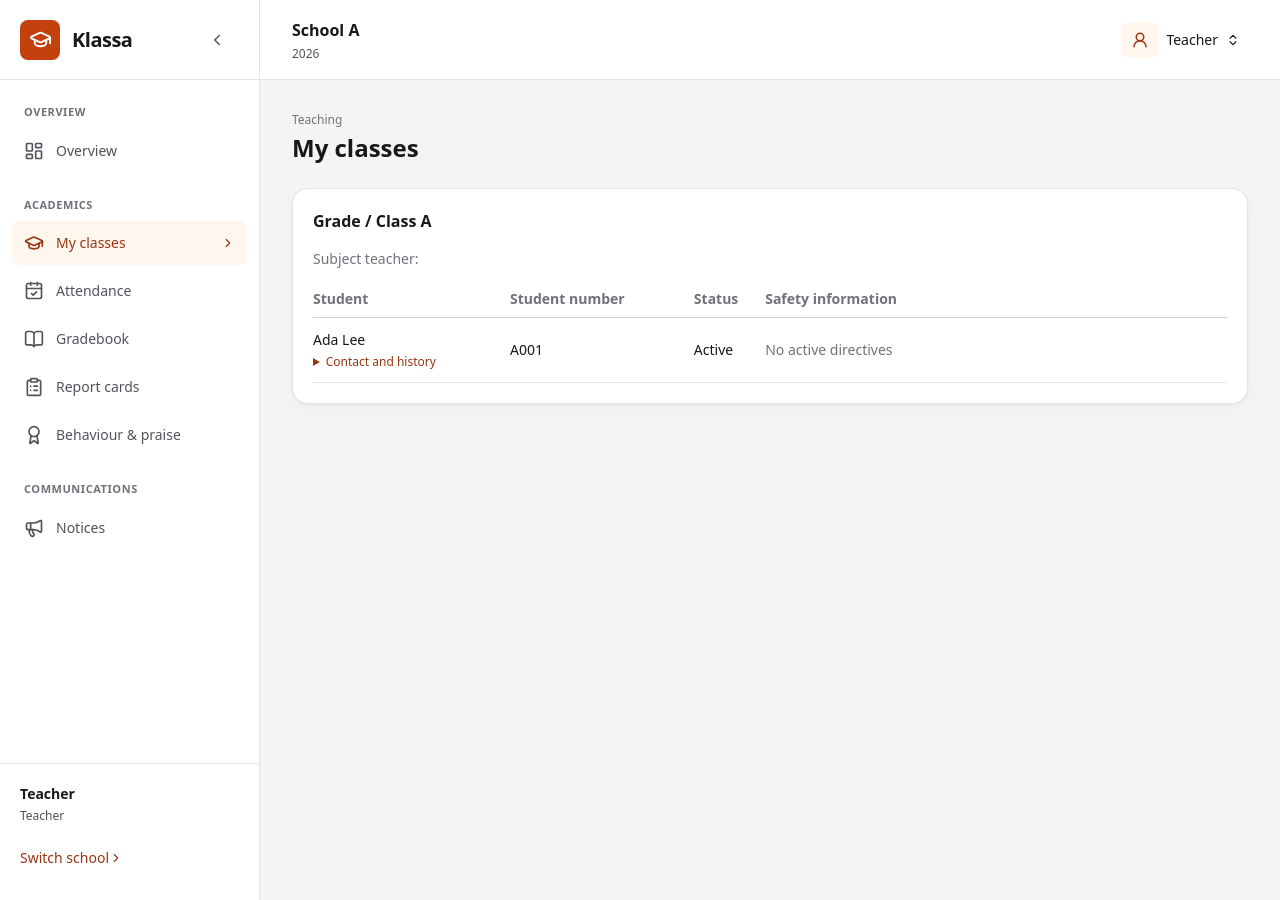
Test: teacher class information › shows linked contact and published attendance history on a roster
The image size is (1280, 900).
Click the heading "Contact and history" at (381, 362), box x1=326 y1=353 x2=436 y2=370
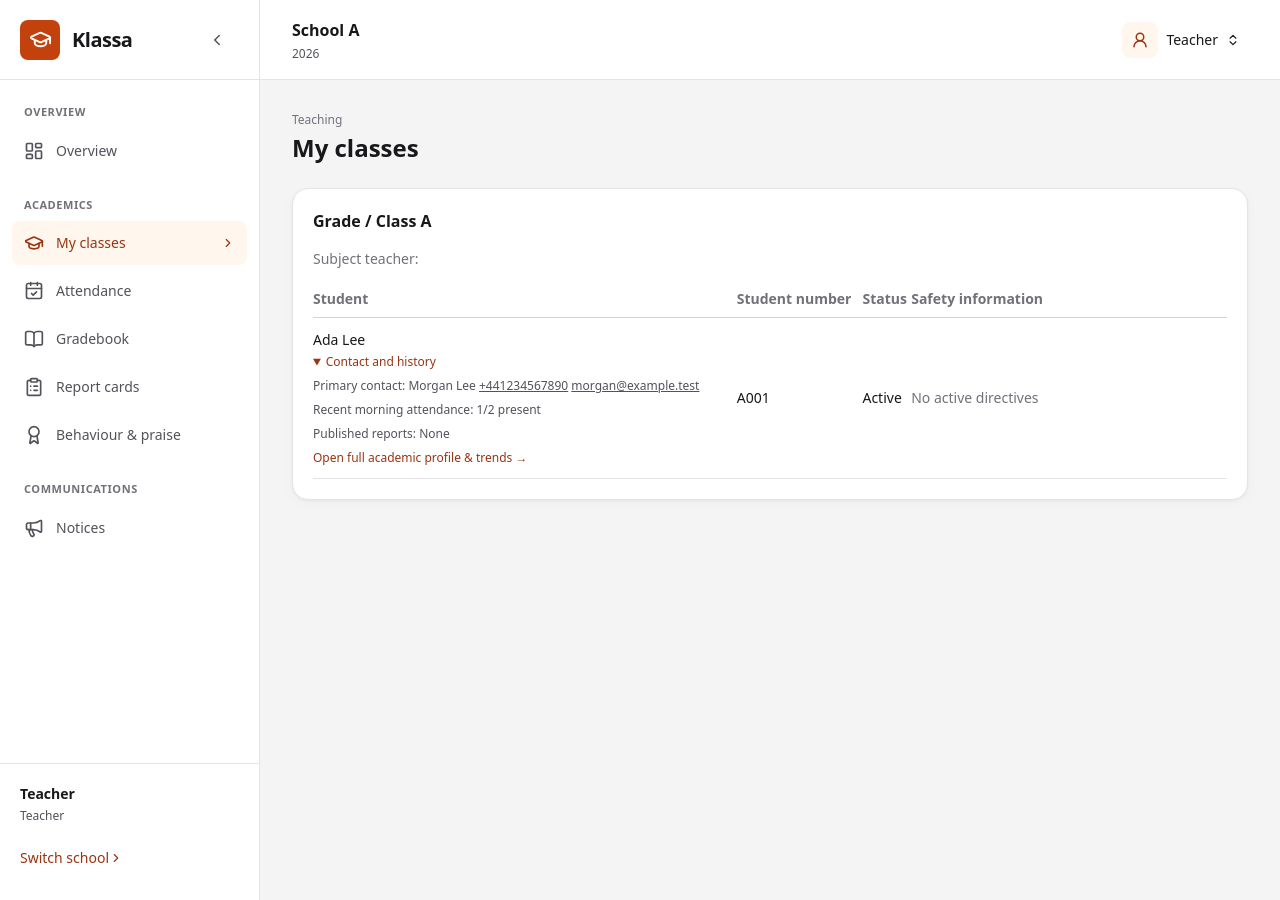
Expected: the text "Morgan Lee" is shown, x1=313 y1=378 x2=737 y2=394
Expected: the text "Recent morning attendance: 1/2 present" is shown, x1=313 y1=401 x2=541 y2=418
